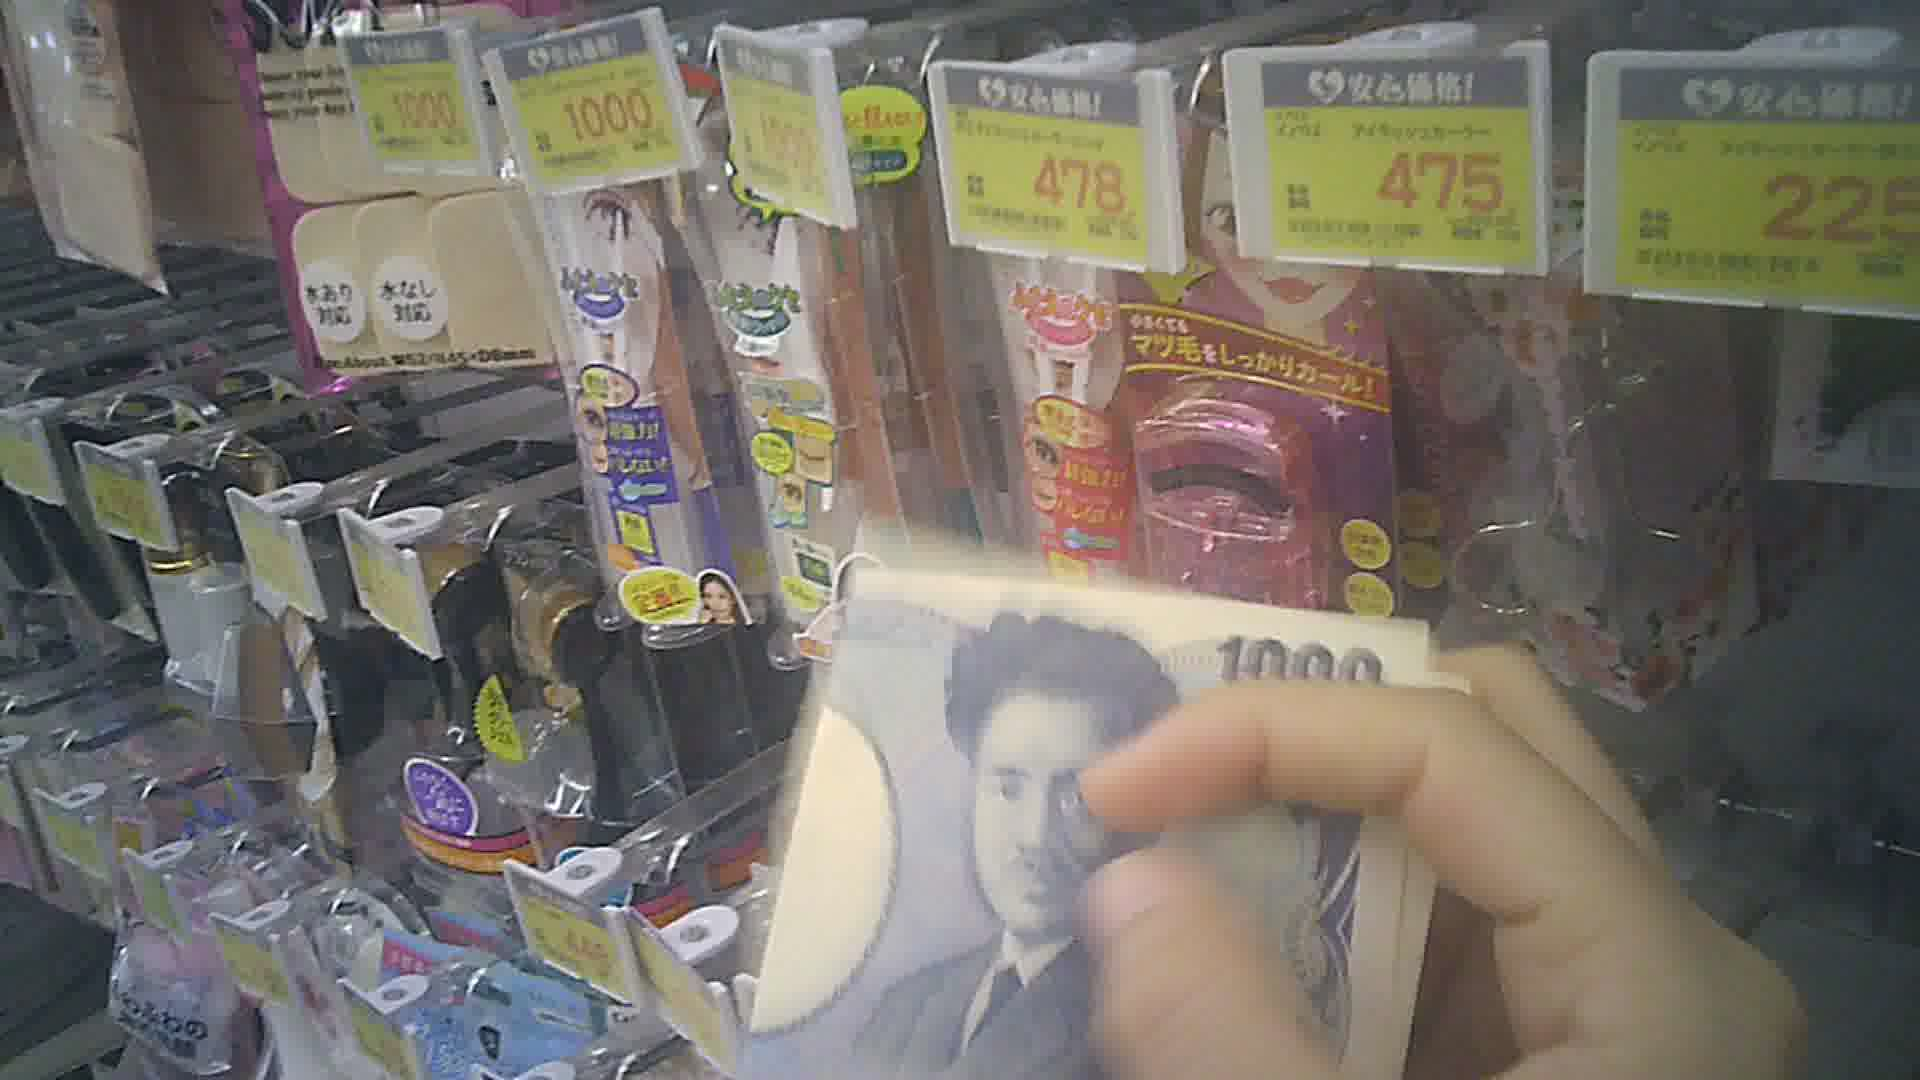1,000 Yen: (756, 545, 1433, 1079)
